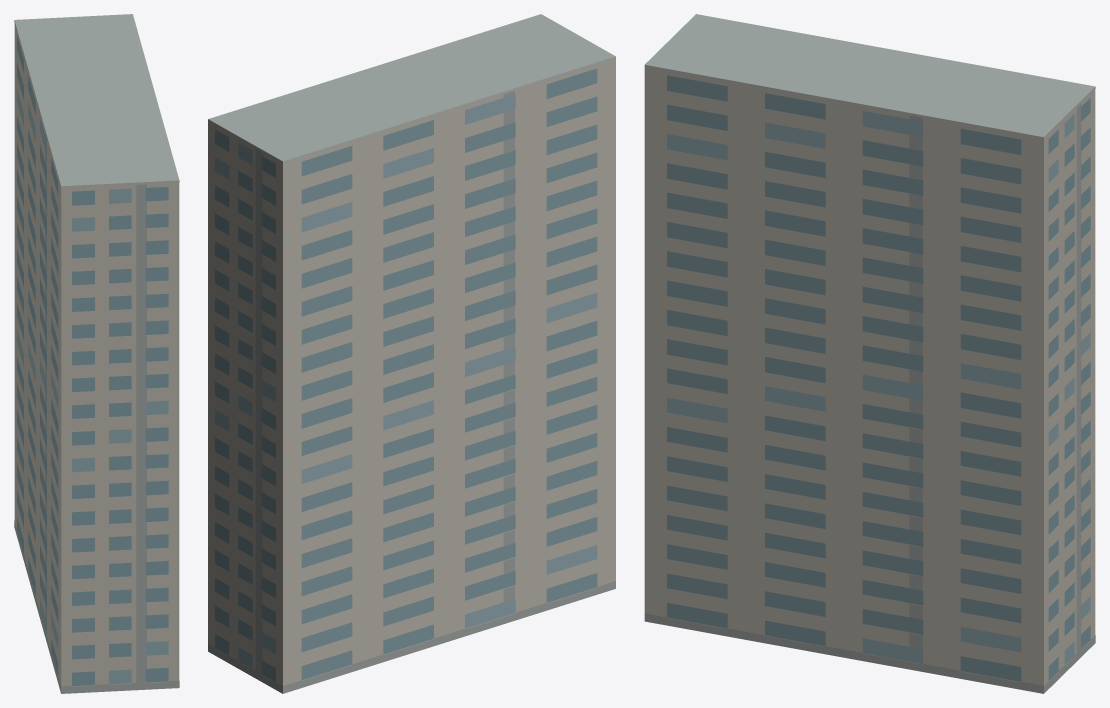
The model's file is residential-15a383f5-e581-4c4d-bbd4-19ed86f2e792.glb.
3 renders of one model, left to right at view 1: azimuth 30°, elevation 25°; view 2: azimuth 150°, elevation 25°; view 3: azimuth 270°, elevation 25°, orthographic. The views are drawn at different scales.
Visible parts, largest first — view 1: residential-15a383f5-e581-4c4d-bbd4-19ed86f2e792.tmp; view 2: residential-15a383f5-e581-4c4d-bbd4-19ed86f2e792.tmp; view 3: residential-15a383f5-e581-4c4d-bbd4-19ed86f2e792.tmp.
Boxes of the visible parts, x1=… form: residential-15a383f5-e581-4c4d-bbd4-19ed86f2e792.tmp: x1=14, y1=14, x2=179, y2=693; residential-15a383f5-e581-4c4d-bbd4-19ed86f2e792.tmp: x1=208, y1=14, x2=615, y2=693; residential-15a383f5-e581-4c4d-bbd4-19ed86f2e792.tmp: x1=644, y1=14, x2=1095, y2=693.
Bounding box in the file's own units: 24.21 × 51 × 37.45.
